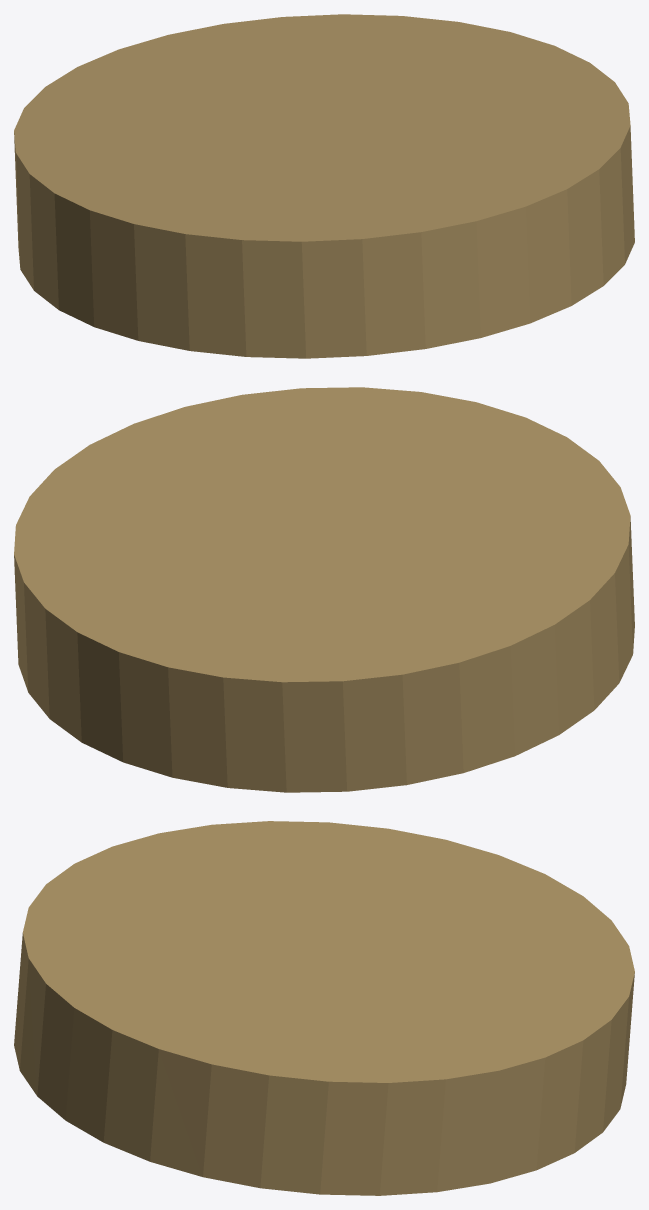
File: left_shoulder_y_link_visual_3.obj.balanced.glb
The picture shows the model from 3 angles, top to bottom: view 1: azimuth 30°, elevation 25°; view 2: azimuth 150°, elevation 25°; view 3: azimuth 270°, elevation 25°; orthographic projection.
Bounding box in the file's own units: 0.1667 × 0.0456 × 0.1687.
